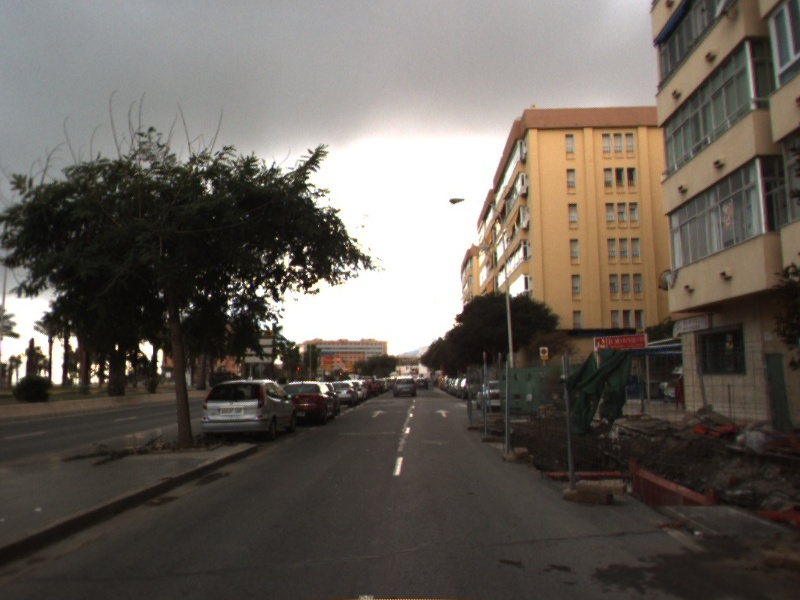STRAIGHT: (434, 408, 452, 418), (369, 409, 388, 418)
